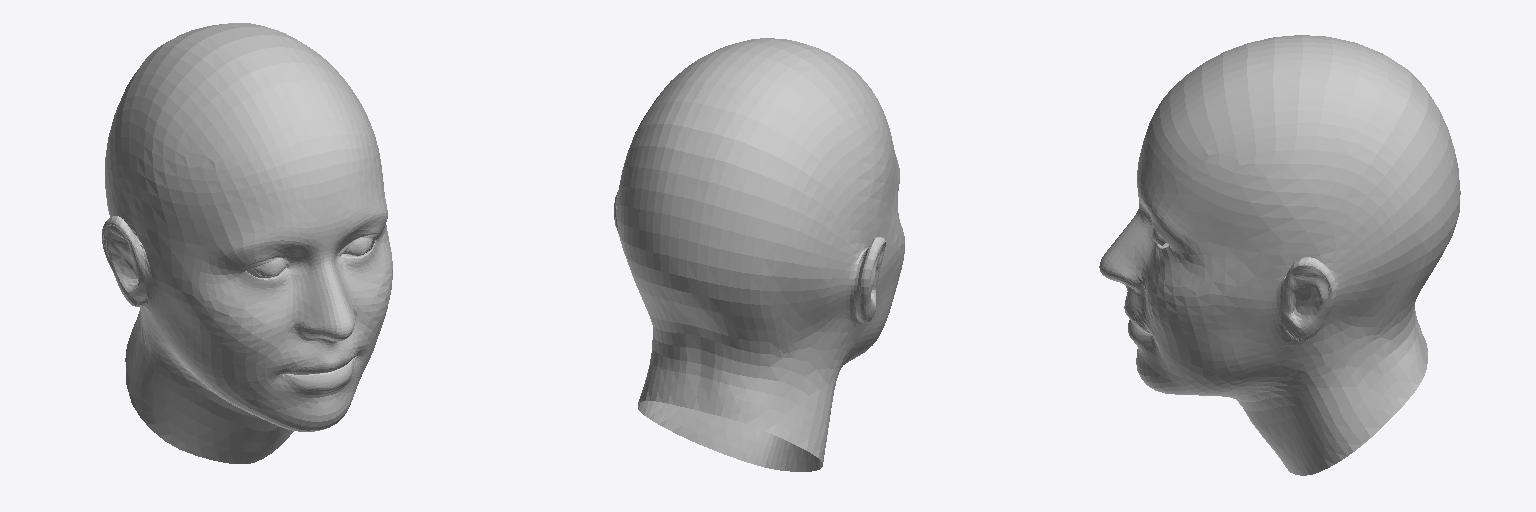
File: nomal_face.obj
3 views of the same model, side by side, from view 1: azimuth 30°, elevation 25°; view 2: azimuth 150°, elevation 25°; view 3: azimuth 270°, elevation 25° (orthographic).
Size of the model in its own units: 1.22 by 1.88 by 1.47.